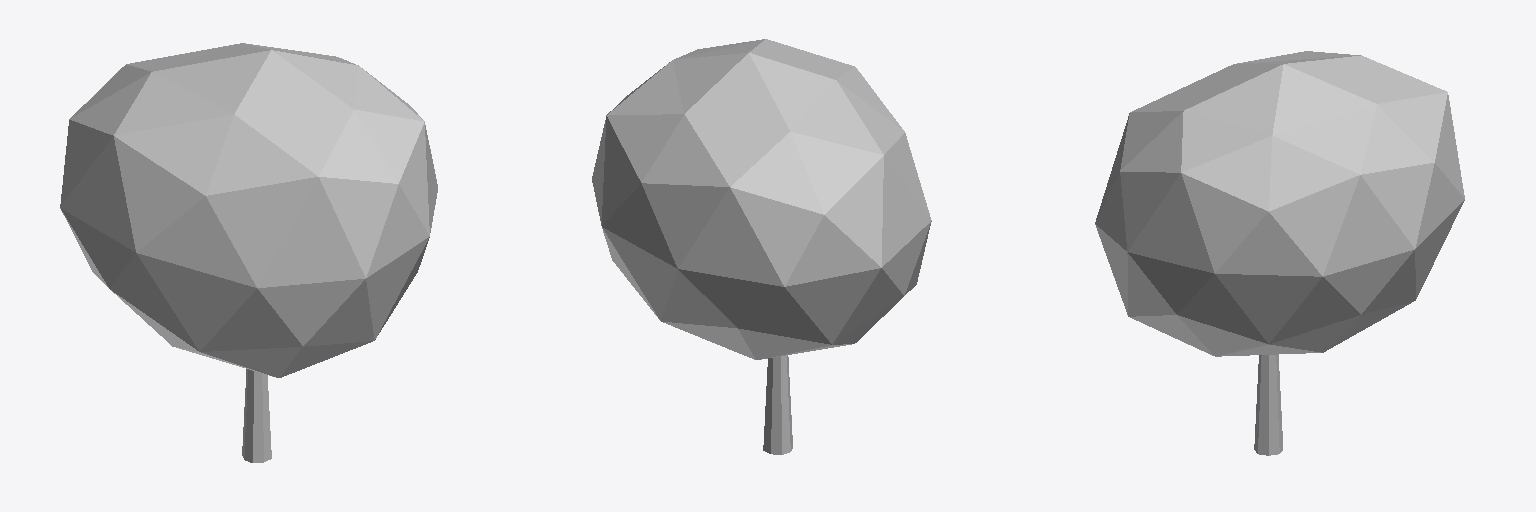
The model's file is tree-ash1.obj.
3 renders of one model, left to right at view 1: azimuth 30°, elevation 25°; view 2: azimuth 150°, elevation 25°; view 3: azimuth 270°, elevation 25°, orthographic.
Visible parts, largest first — view 1: stalk_Cube.001; view 2: stalk_Cube.001; view 3: stalk_Cube.001.
Part boxes in pixels (x1,y1,x2,y2): stalk_Cube.001: (60, 43, 437, 462); stalk_Cube.001: (592, 39, 931, 454); stalk_Cube.001: (1095, 51, 1464, 455).
Size of the model in its own units: 4.95 by 6.13 by 5.13.